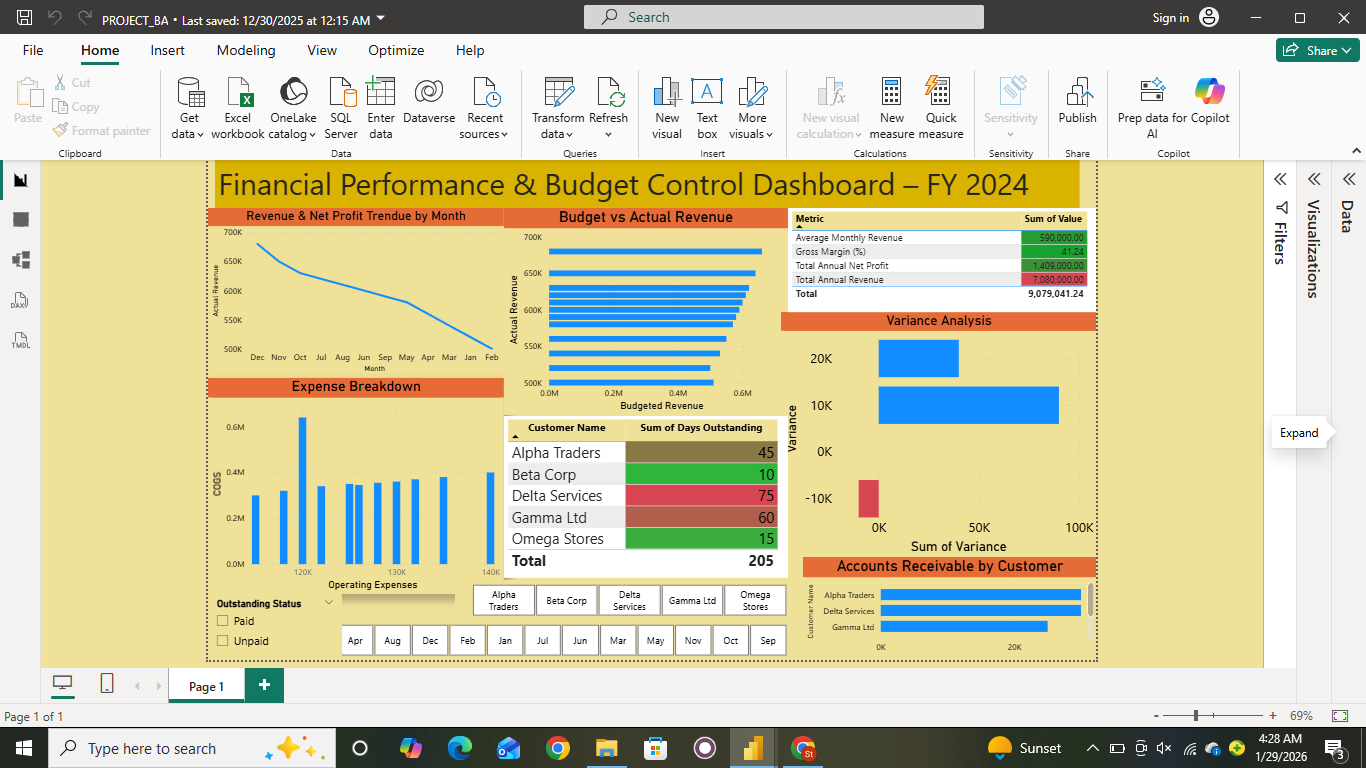

The dashboard page shown, as its layout file describes it:
{"tool":"powerbi","page":{"name":"Page 1","canvas":[1280,720],"ordinal":0},"visuals":[{"type":"textbox","box":[10.1,0,1244.7,68.9],"z":0},{"type":"lineChart","title":"Revenue & Net Profit Trendue by Month","fields":{"Category":["Budget_vs_Actual.Month"],"Y":["Sum(Budget_vs_Actual.Actual Revenue)"]},"box":[0,69.1,426.2,241.9],"z":1000},{"type":"clusteredColumnChart","title":"Expense Breakdown","fields":{"Category":["Income_Statement.Operating Expenses"],"Y":["Sum(Income_Statement.COGS)"]},"box":[0,313.9,426.2,311],"z":2000},{"type":"clusteredBarChart","title":"Budget vs Actual Revenue","fields":{"Y":["Sum(Budget_vs_Actual.Budgeted Revenue)"],"Category":["Budget_vs_Actual.Actual Revenue"]},"box":[426.2,69.1,409,298.1],"z":3000},{"type":"barChart","title":"Variance Analysis","fields":{"Category":["Budget_vs_Actual.Variance"],"Y":["Sum(Budget_vs_Actual.Variance)"]},"box":[825.1,218.9,455,352.8],"z":4000},{"type":"barChart","title":"Accounts Receivable by Customer","fields":{"Category":["Accounts_Receivable.Customer Name"],"Y":["Sum(Accounts_Receivable.Outstanding)"]},"box":[856.8,571.7,423.4,148.3],"z":5000},{"type":"tableEx","title":"Days Outstanding Risk","fields":{"Values":["Accounts_Receivable.Customer Name","Sum(Accounts_Receivable.Days Outstanding)"]},"box":[426.2,368.6,409,233.3],"z":6000},{"type":"slicer","fields":{"Values":["Accounts_Receivable.Customer Name"]},"box":[355.7,604.8,501.1,57.6],"z":7000},{"type":"slicer","fields":{"Values":["Budget_vs_Actual.Month"]},"box":[159.8,662.4,697,57.6],"z":8000},{"type":"slicer","fields":{"Values":["Accounts_Receivable.Outstanding Status"]},"box":[0,624.9,193.2,95.7],"z":9000},{"type":"tableEx","fields":{"Values":["KPIs.Metric","Sum(KPIs.Value)"]},"box":[835.2,69.1,445,149.8],"z":10000}]}

Visuals, with their boxes on the page's 1280x720 design canvas (x1, y1, x2, y2). These are canvas units, not pixel positions in the 1366x768 screenshot, which may show the page scaled, cropped or inside an application window:
textbox: Rect(10, 0, 1255, 69)
"Revenue & Net Profit Trendue by Month" lineChart: Rect(0, 69, 426, 311)
"Expense Breakdown" clusteredColumnChart: Rect(0, 314, 426, 625)
"Budget vs Actual Revenue" clusteredBarChart: Rect(426, 69, 835, 367)
"Variance Analysis" barChart: Rect(825, 219, 1280, 572)
"Accounts Receivable by Customer" barChart: Rect(857, 572, 1280, 720)
"Days Outstanding Risk" tableEx: Rect(426, 369, 835, 602)
slicer - Accounts_Receivable.Customer Name: Rect(356, 605, 857, 662)
slicer - Budget_vs_Actual.Month: Rect(160, 662, 857, 720)
slicer - Accounts_Receivable.Outstanding Status: Rect(0, 625, 193, 721)
tableEx - KPIs.Metric x Sum(KPIs.Value): Rect(835, 69, 1280, 219)
